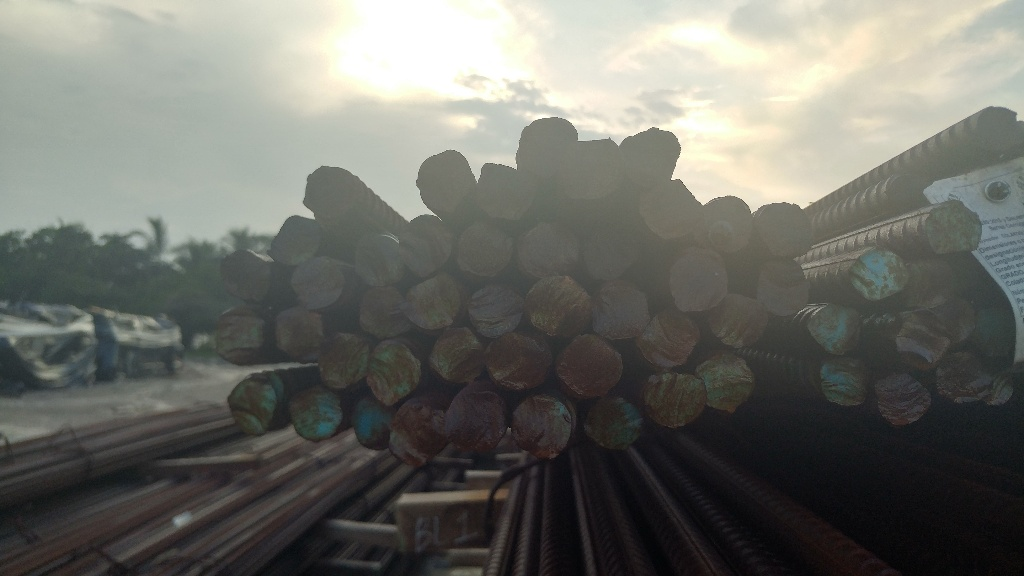dipstick: (556, 137, 623, 206), (485, 329, 553, 391), (446, 385, 507, 454), (557, 332, 624, 394), (526, 277, 593, 336), (635, 309, 700, 368), (694, 350, 754, 412), (415, 149, 473, 213), (367, 339, 422, 406), (475, 161, 536, 220), (514, 397, 571, 460), (667, 253, 726, 313), (390, 400, 445, 464), (708, 293, 768, 351), (591, 282, 651, 340), (516, 119, 577, 176), (584, 221, 640, 283), (582, 391, 641, 448), (895, 313, 953, 370), (454, 221, 512, 278), (430, 325, 486, 384), (935, 349, 995, 404), (694, 196, 751, 253), (621, 128, 680, 183), (518, 222, 577, 277), (399, 279, 462, 330), (645, 375, 705, 427), (876, 370, 931, 426), (400, 216, 451, 276), (316, 330, 367, 389), (641, 177, 691, 237), (760, 202, 815, 256), (467, 280, 521, 335), (927, 201, 983, 253), (758, 258, 809, 315), (357, 286, 412, 338), (850, 249, 907, 299), (289, 388, 343, 440), (302, 168, 357, 219), (228, 379, 277, 436), (275, 306, 325, 361), (818, 355, 870, 406), (213, 310, 265, 361), (808, 304, 861, 354), (289, 258, 344, 306), (269, 216, 323, 263), (223, 249, 270, 301), (351, 238, 403, 284), (905, 259, 957, 304), (973, 306, 1015, 360), (973, 106, 1021, 153), (354, 398, 395, 450), (934, 295, 975, 339), (885, 168, 923, 209), (984, 364, 1012, 407)
